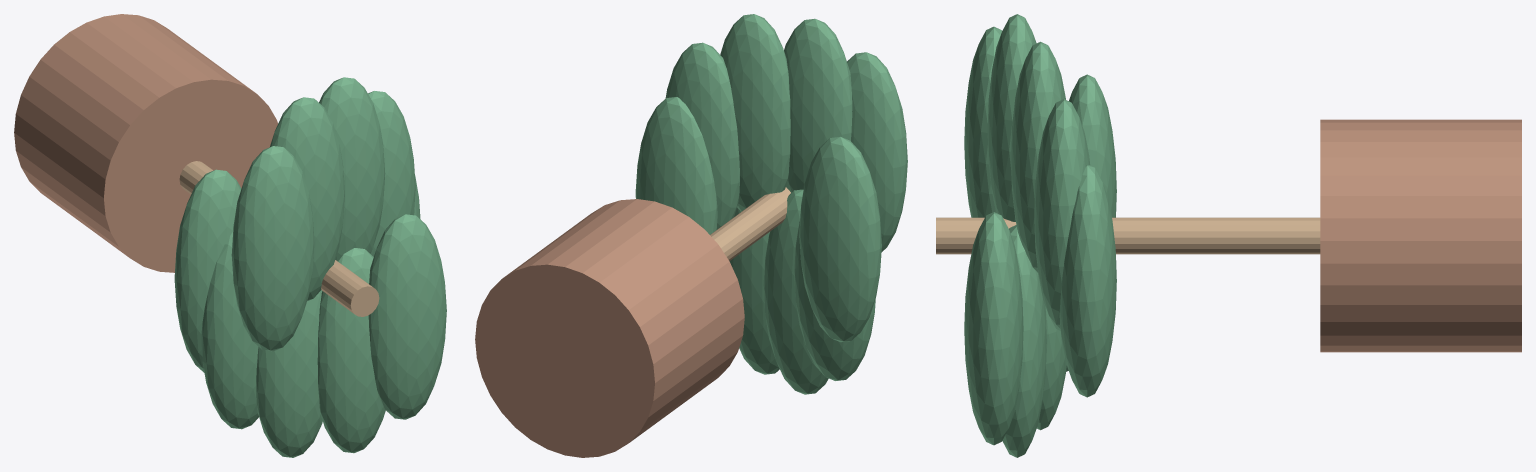
Rendered from SM_Plant_Ficus_POC.glb.
3 views of the same model, side by side, from view 1: azimuth 30°, elevation 25°; view 2: azimuth 150°, elevation 25°; view 3: azimuth 270°, elevation 25° (orthographic). The views are drawn at different scales.
Visible parts, largest first — view 1: SM_Plant_Ficus_POC_00, SM_Plant_Ficus_POC_06, SM_Plant_Ficus_POC_11, SM_Plant_Ficus_POC_10, SM_Plant_Ficus_POC_09, SM_Plant_Ficus_POC_04, SM_Plant_Ficus_POC_07, SM_Plant_Ficus_POC_05, SM_Plant_Ficus_POC_08, SM_Plant_Ficus_POC_03, SM_Plant_Ficus_POC_01; view 2: SM_Plant_Ficus_POC_00, SM_Plant_Ficus_POC_07, SM_Plant_Ficus_POC_04, SM_Plant_Ficus_POC_05, SM_Plant_Ficus_POC_02, SM_Plant_Ficus_POC_06, SM_Plant_Ficus_POC_03, SM_Plant_Ficus_POC_09, SM_Plant_Ficus_POC_10, SM_Plant_Ficus_POC_08, SM_Plant_Ficus_POC_01; view 3: SM_Plant_Ficus_POC_00, SM_Plant_Ficus_POC_11, SM_Plant_Ficus_POC_02, SM_Plant_Ficus_POC_01, SM_Plant_Ficus_POC_03, SM_Plant_Ficus_POC_04, SM_Plant_Ficus_POC_05, SM_Plant_Ficus_POC_10, SM_Plant_Ficus_POC_06, SM_Plant_Ficus_POC_07, SM_Plant_Ficus_POC_09.
Boxes of the visible parts, x1,y1,x2,y2 form: SM_Plant_Ficus_POC_00: [14, 14, 277, 272]; SM_Plant_Ficus_POC_06: [231, 146, 314, 351]; SM_Plant_Ficus_POC_11: [368, 214, 446, 419]; SM_Plant_Ficus_POC_10: [317, 248, 385, 453]; SM_Plant_Ficus_POC_09: [256, 290, 322, 457]; SM_Plant_Ficus_POC_04: [319, 77, 385, 260]; SM_Plant_Ficus_POC_07: [174, 169, 241, 372]; SM_Plant_Ficus_POC_05: [270, 97, 344, 300]; SM_Plant_Ficus_POC_08: [201, 231, 258, 429]; SM_Plant_Ficus_POC_03: [368, 91, 415, 256]; SM_Plant_Ficus_POC_01: [179, 161, 379, 316]; SM_Plant_Ficus_POC_00: [475, 199, 744, 457]; SM_Plant_Ficus_POC_07: [799, 136, 881, 342]; SM_Plant_Ficus_POC_04: [720, 14, 790, 211]; SM_Plant_Ficus_POC_05: [784, 18, 852, 192]; SM_Plant_Ficus_POC_02: [635, 97, 717, 234]; SM_Plant_Ficus_POC_06: [847, 52, 907, 251]; SM_Plant_Ficus_POC_03: [665, 42, 739, 229]; SM_Plant_Ficus_POC_09: [763, 189, 828, 394]; SM_Plant_Ficus_POC_10: [729, 207, 779, 374]; SM_Plant_Ficus_POC_08: [794, 221, 875, 380]; SM_Plant_Ficus_POC_01: [710, 187, 790, 260]; SM_Plant_Ficus_POC_00: [1320, 119, 1521, 352]; SM_Plant_Ficus_POC_11: [964, 212, 1023, 445]; SM_Plant_Ficus_POC_02: [1059, 165, 1116, 397]; SM_Plant_Ficus_POC_01: [936, 217, 1320, 254]; SM_Plant_Ficus_POC_03: [1034, 99, 1090, 330]; SM_Plant_Ficus_POC_04: [1011, 41, 1065, 273]; SM_Plant_Ficus_POC_05: [987, 14, 1036, 221]; SM_Plant_Ficus_POC_10: [1002, 225, 1046, 457]; SM_Plant_Ficus_POC_06: [964, 26, 1001, 217]; SM_Plant_Ficus_POC_07: [1069, 74, 1116, 217]; SM_Plant_Ficus_POC_09: [1036, 306, 1066, 430].
Size of the model in its own units: 0.592 by 0.8604 by 1.11.
